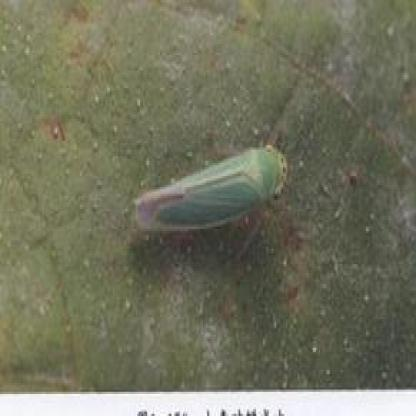Green-Leafhopper: (127, 136, 290, 268)
